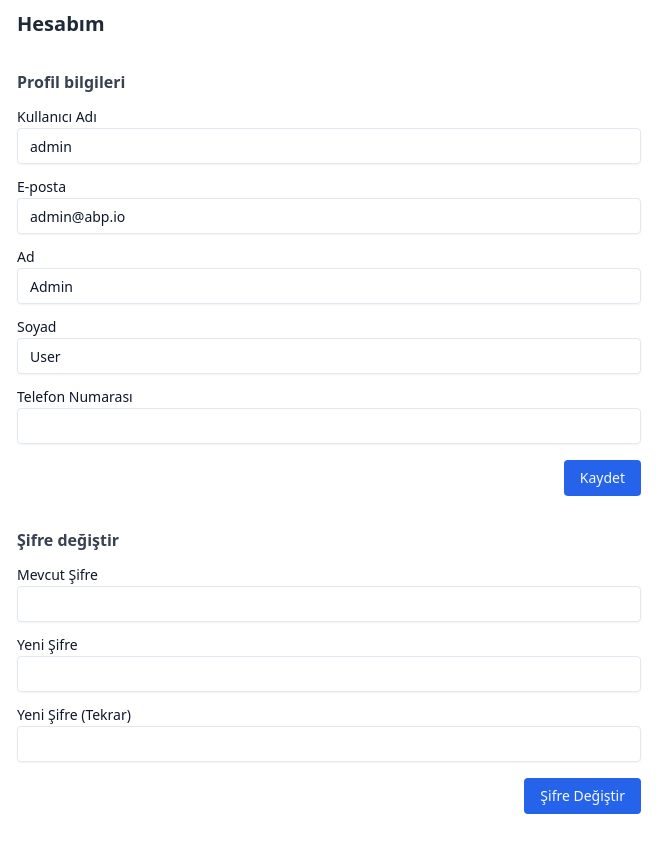
ProfilePage — change password validation › shows error when new password confirm is empty
Type "OldPass123" into the password field labelled "Mevcut Şifre" at (329,604), box [17,586,641,622]
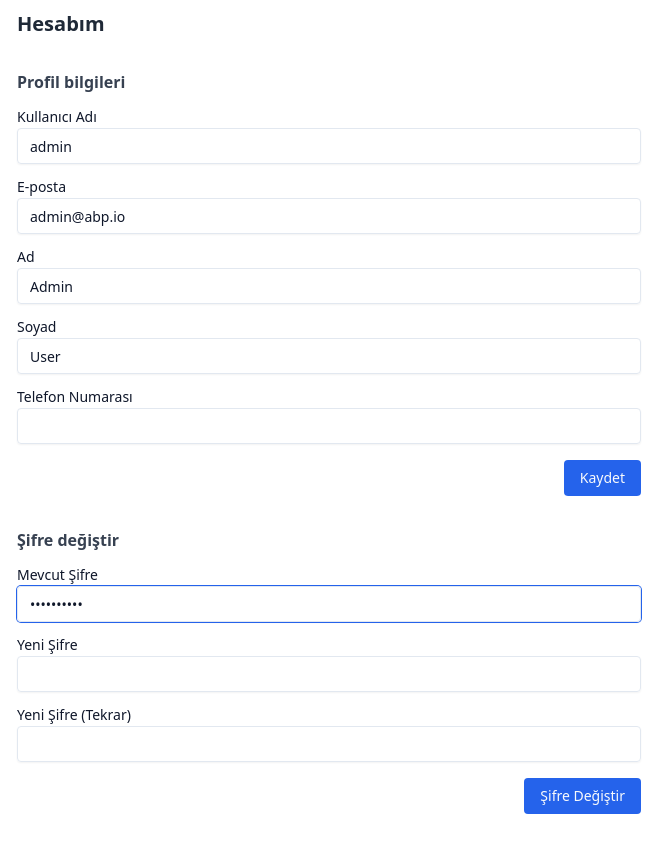
Type "NewPass123" into the password field labelled "Yeni Şifre" at (329,674), box [17,656,641,692]
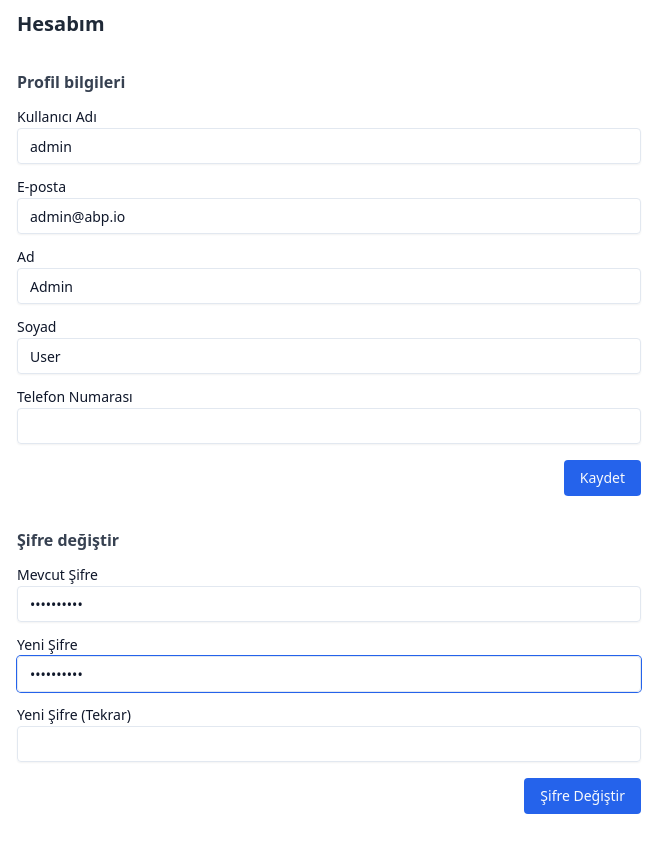
Click the button "Şifre Değiştir" at (583,796), box [524,778,641,814]
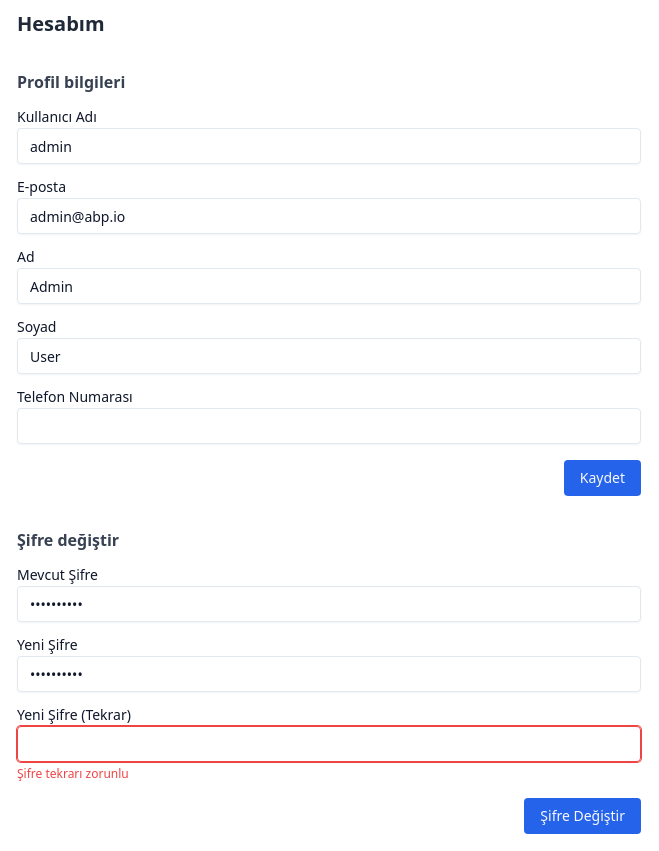
Check: the text "Şifre tekrarı zorunlu" is shown, box [17,765,129,782]
